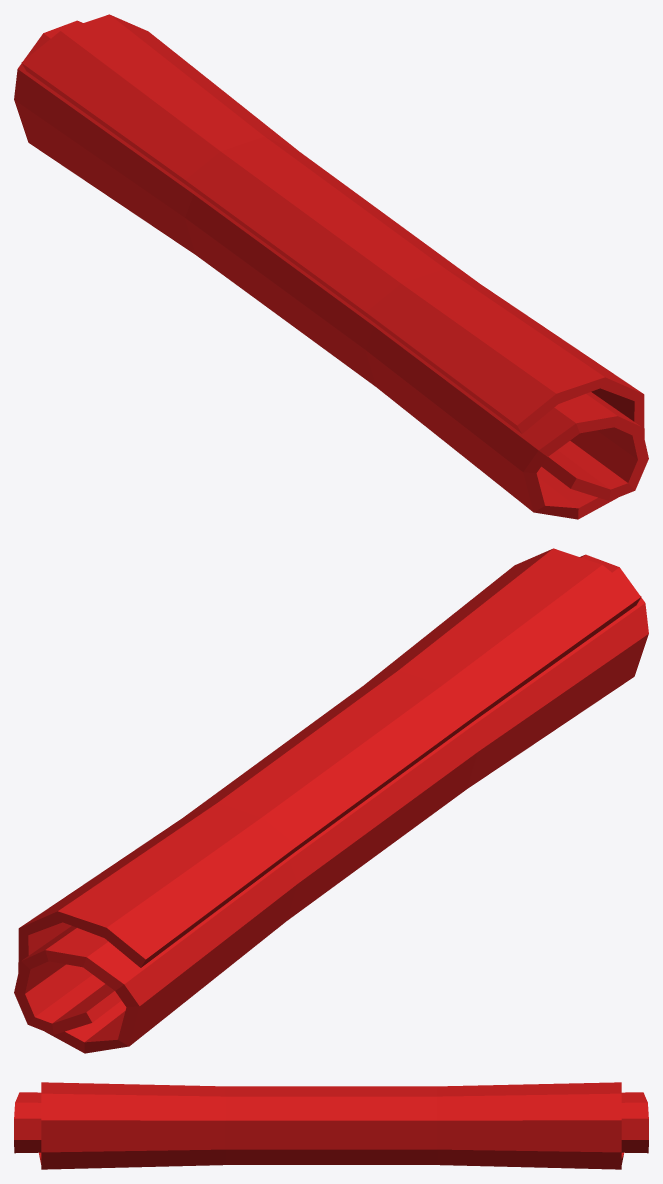
File: SM_carpet_rolled.FBX
3 renders of one model, top to bottom at view 1: azimuth 30°, elevation 25°; view 2: azimuth 150°, elevation 25°; view 3: azimuth 270°, elevation 25°, orthographic. The views are drawn at different scales.
Parts seen in each view (by area): view 1: Line039; view 2: Line039; view 3: Line039.
Boxes of the visible parts, bbox=[...] form: Line039: bbox=[14, 14, 648, 519]; Line039: bbox=[14, 548, 648, 1053]; Line039: bbox=[14, 1082, 648, 1169].
Bounding box in the file's own units: 24.82 × 25.13 × 182.
